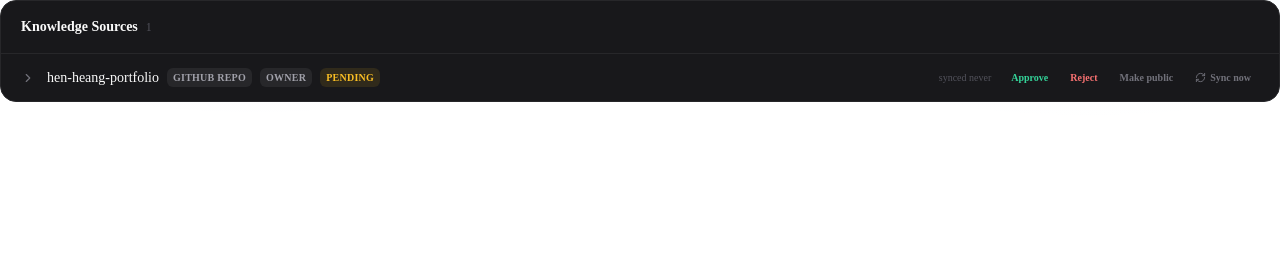
Test: KnowledgeSourcesPanel › shows an explicit empty message when an expanded source has no chunks or runs yet
Click the button named "Expand": (28, 78) [21,70,35,84]
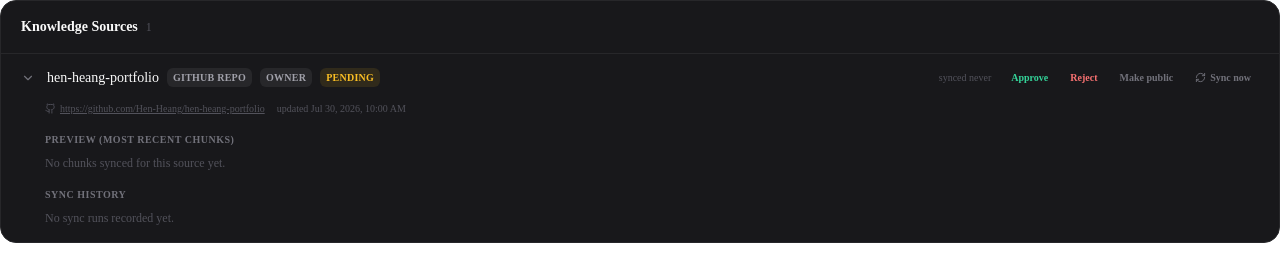
Result: the text "No chunks synced for this source yet." is shown at [45,156,225,170]
Result: the text "No sync runs recorded yet." is shown at [45,211,174,225]
